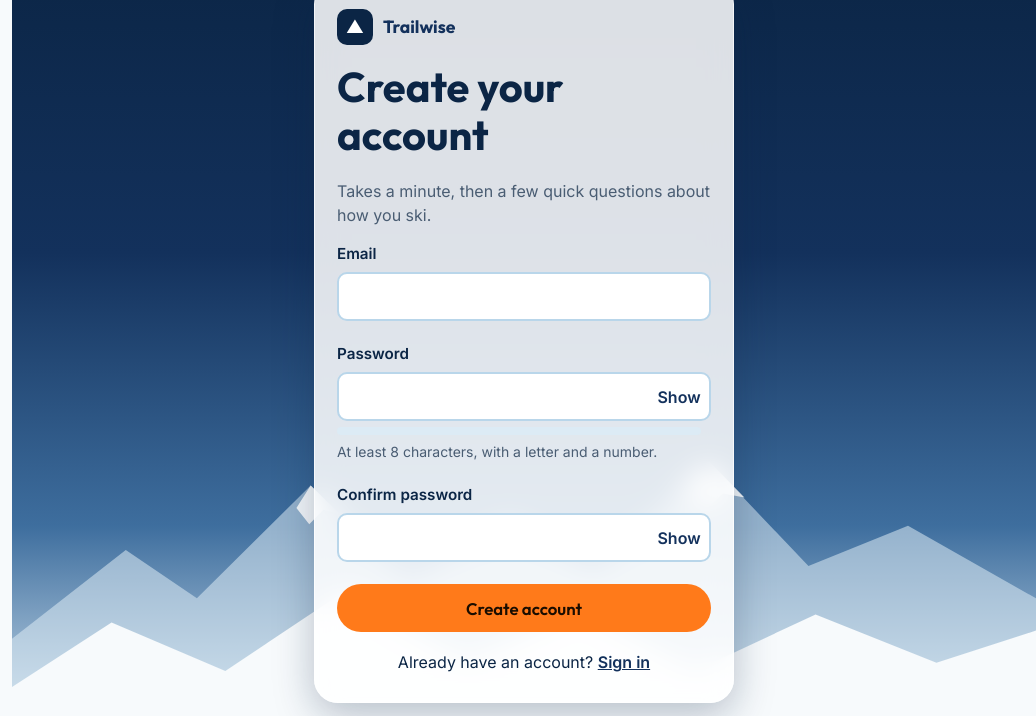
Scenario: Sign up › tells the user when the email is already registered and offers sign in
expect the heading "Create your account" is shown: met, box [337,60,564,161]
Type "ALEX@example.com" into the field labelled "Email".
click(524, 297); type("ALEX@example.com")  # box [337,272,711,322]
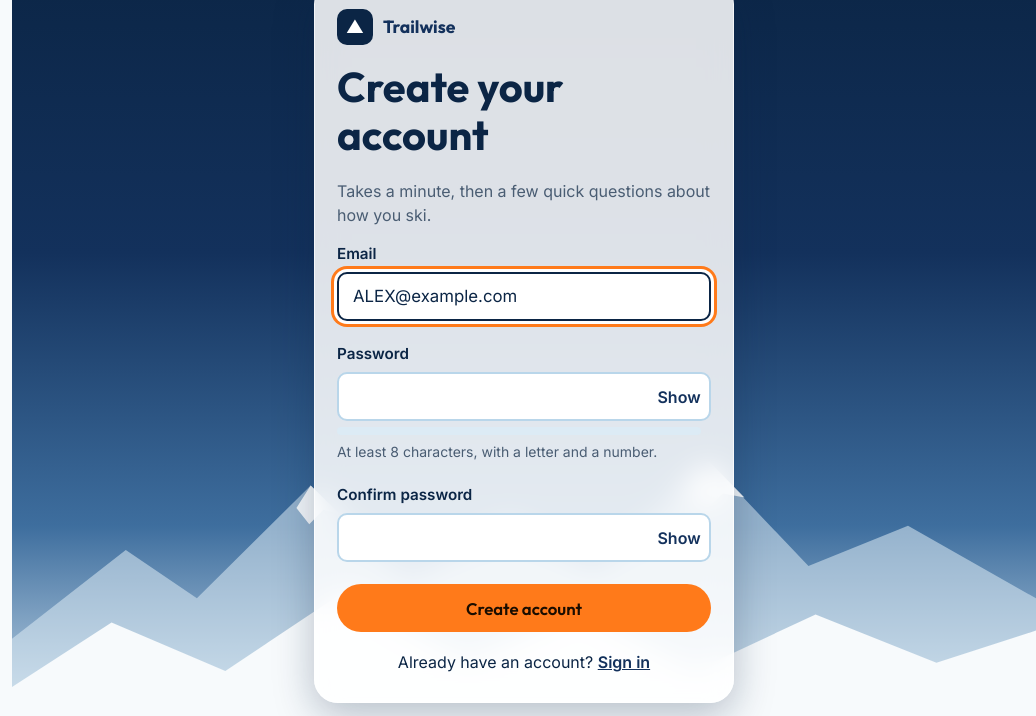
Type "powder123" into the password field labelled "Password".
click(524, 397); type("powder123")  # box [337,372,711,421]
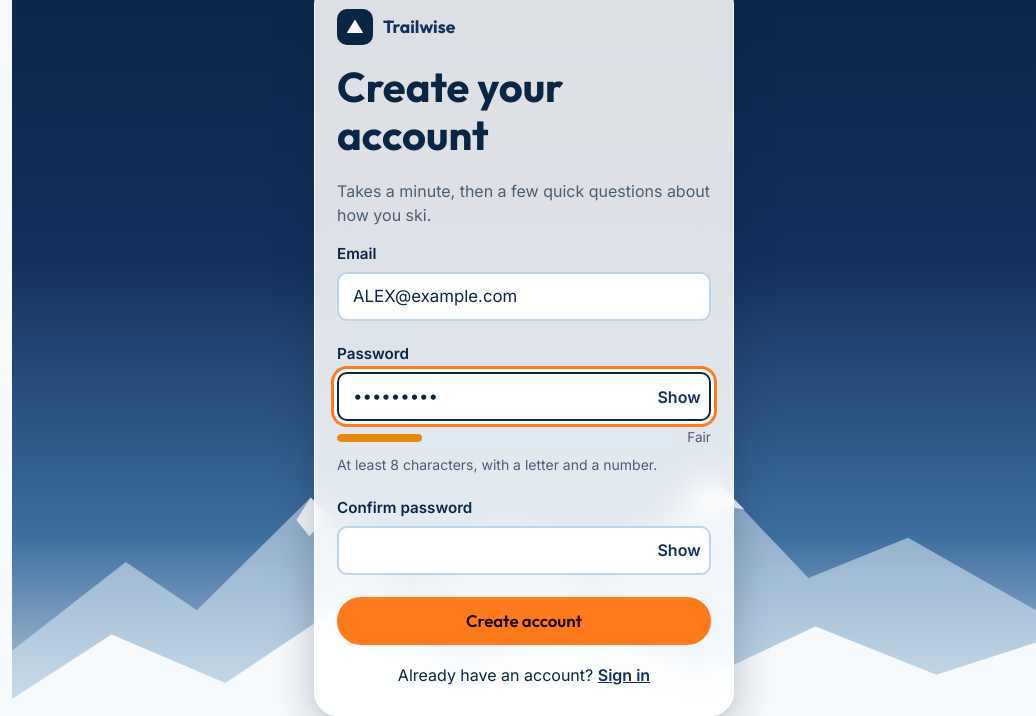
Type "powder123" into the password field labelled "Confirm password".
click(524, 550); type("powder123")  # box [337,526,711,575]
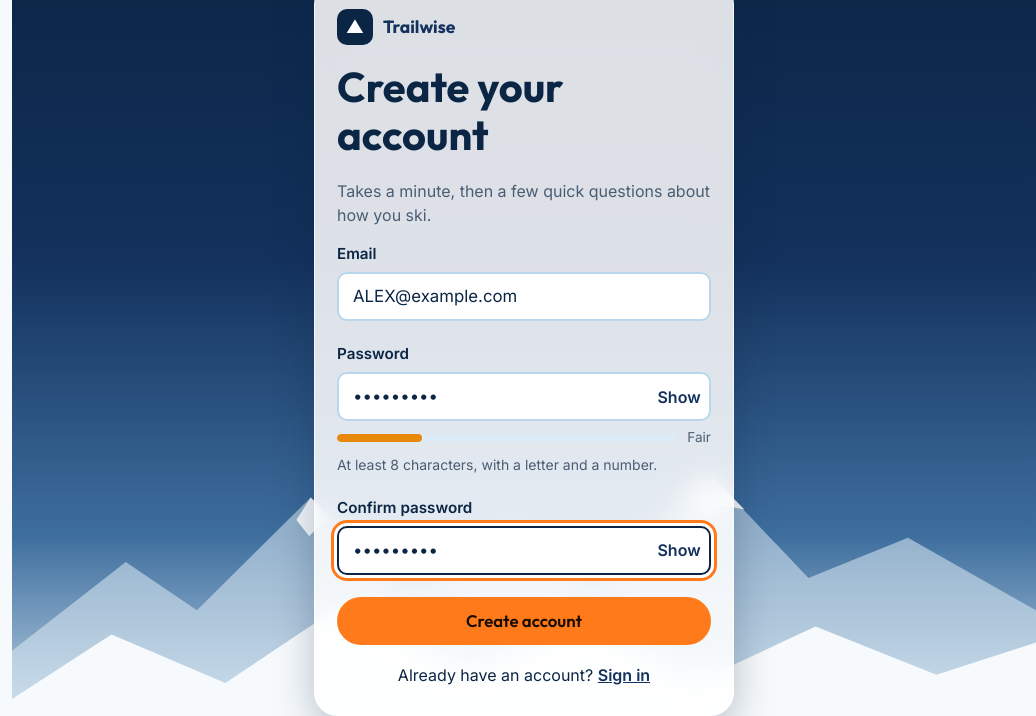
Click the button "Create account".
click(524, 621)  # box [337,597,711,645]
(page scrolled)
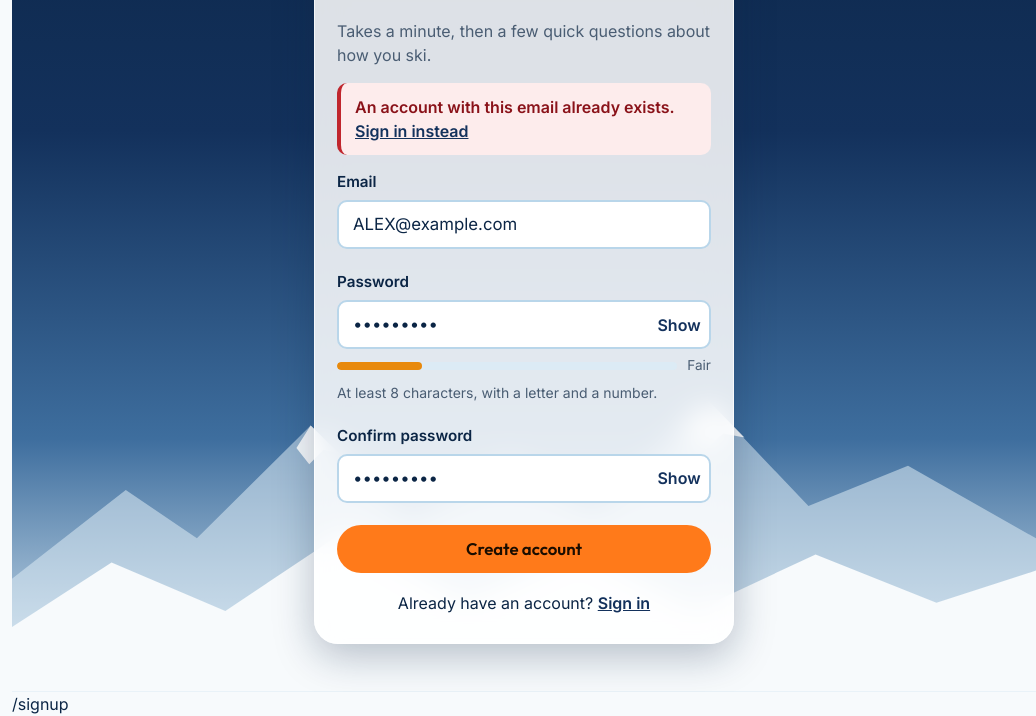
expect the text with test id "location" reads "/signup": met, box [12,694,69,714]
expect the message shows "An account with this email already exists.": met, box [355,98,674,118]
expect the link "Sign in instead" is shown: met, box [355,122,468,142]
